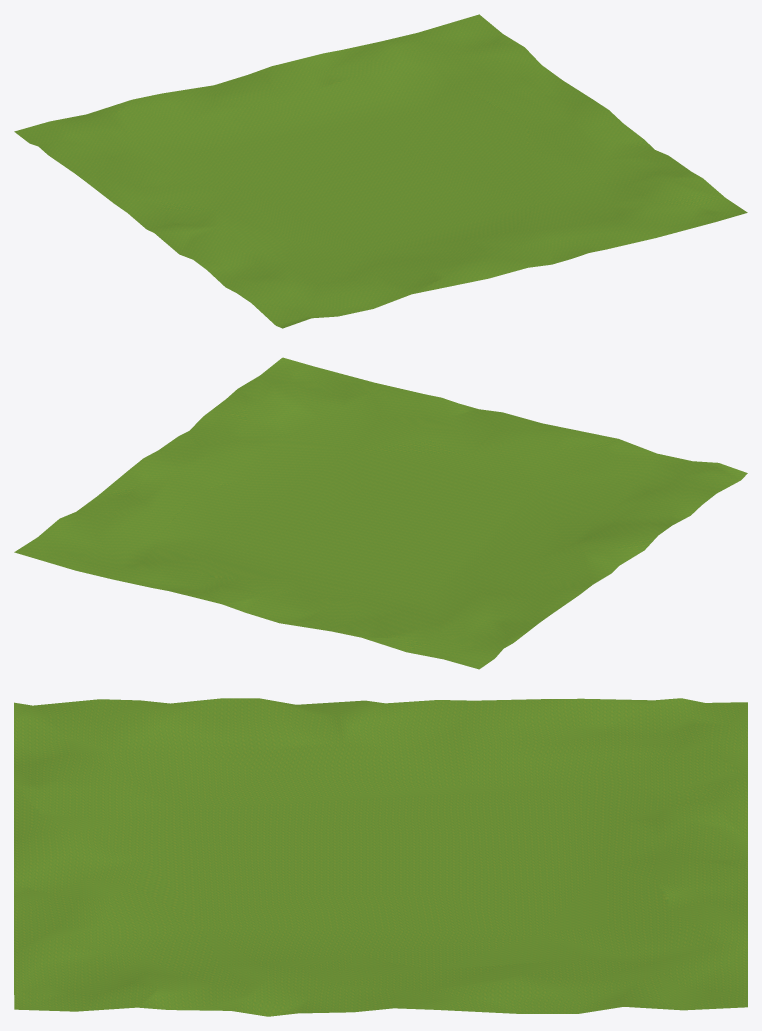
Rendered from dcl_horizon_landscape.glb.
The picture shows the model from 3 angles, top to bottom: view 1: azimuth 30°, elevation 25°; view 2: azimuth 150°, elevation 25°; view 3: azimuth 270°, elevation 25°; orthographic projection. The views are drawn at different scales.
Parts seen in each view (by area): view 1: DCL_Horizon_Landscape; view 2: DCL_Horizon_Landscape; view 3: DCL_Horizon_Landscape.
Part boxes in pixels (left/top/right/bottom): DCL_Horizon_Landscape: left=14, top=14, right=747, bottom=328; DCL_Horizon_Landscape: left=14, top=357, right=747, bottom=669; DCL_Horizon_Landscape: left=14, top=698, right=747, bottom=1016.
Bounding box in the file's own units: 416 × 8.67 × 416.
Materials: 1 (1 with a texture image).
